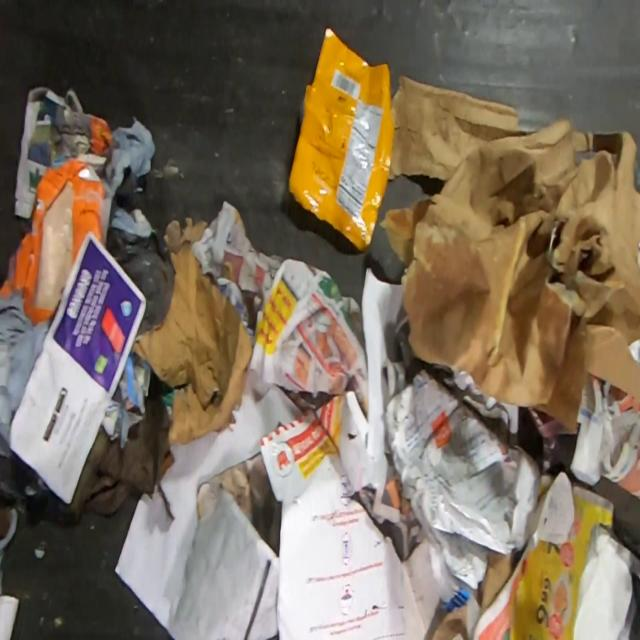cardboard: (0, 156, 106, 324), (196, 451, 282, 558), (473, 549, 515, 613)
soft_plastic: (287, 25, 394, 252)
